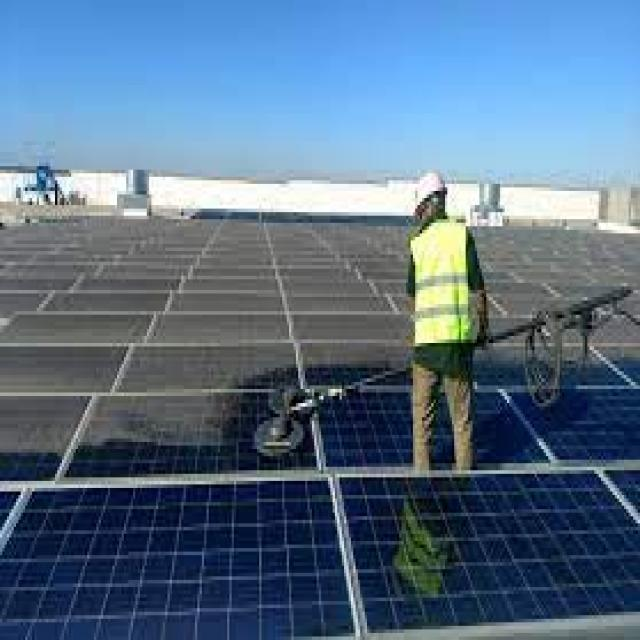clean-solar-panel: (0, 367, 640, 638)
dust-solar-panel: (0, 220, 639, 456)
